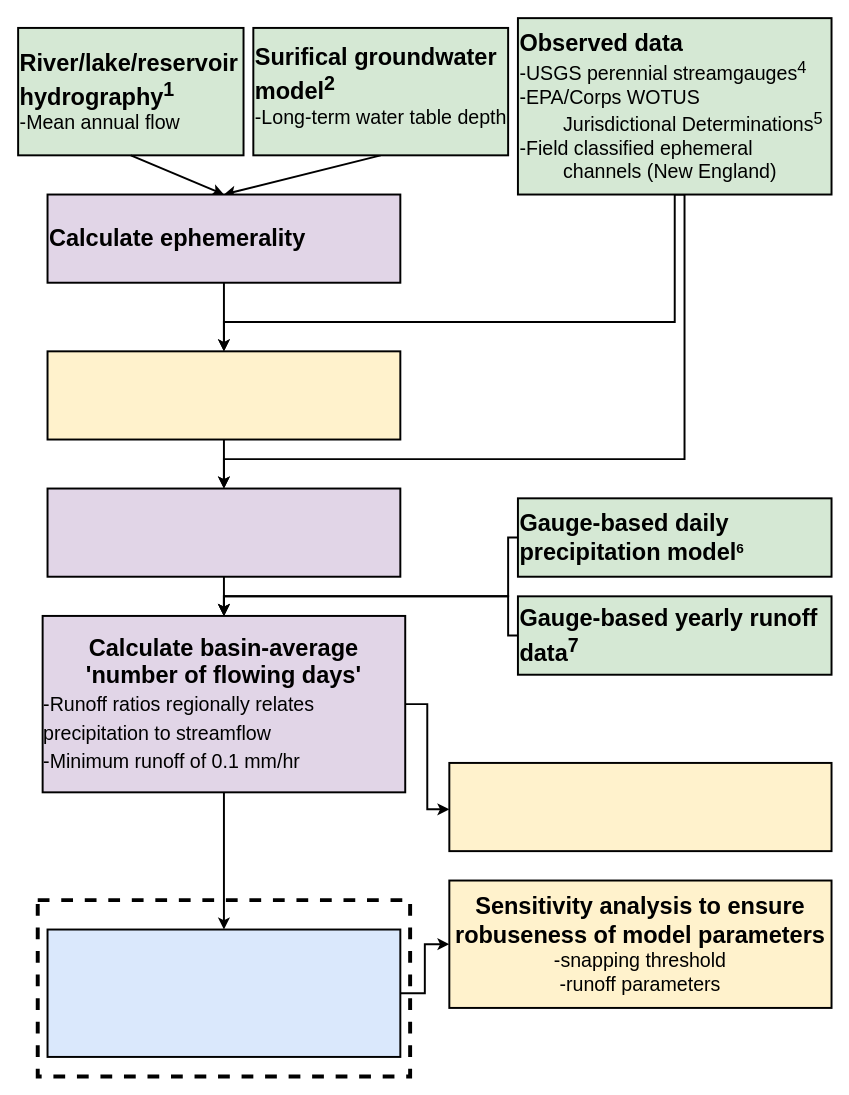
This 849x1095 diagram has some shape labels left out. Here are the shapes that lost their labels. From the top down, the centre of each, then its label:
At point 223,395: "Validate".
At point 223,532: "Scale to capture all ephemeral streams -Horton Scaling Laws".
At point 640,806: "Verify against existing field data".
At point 223,992: "What is the influence of ephemeral streams on CONUS hydrology when flowing?".
